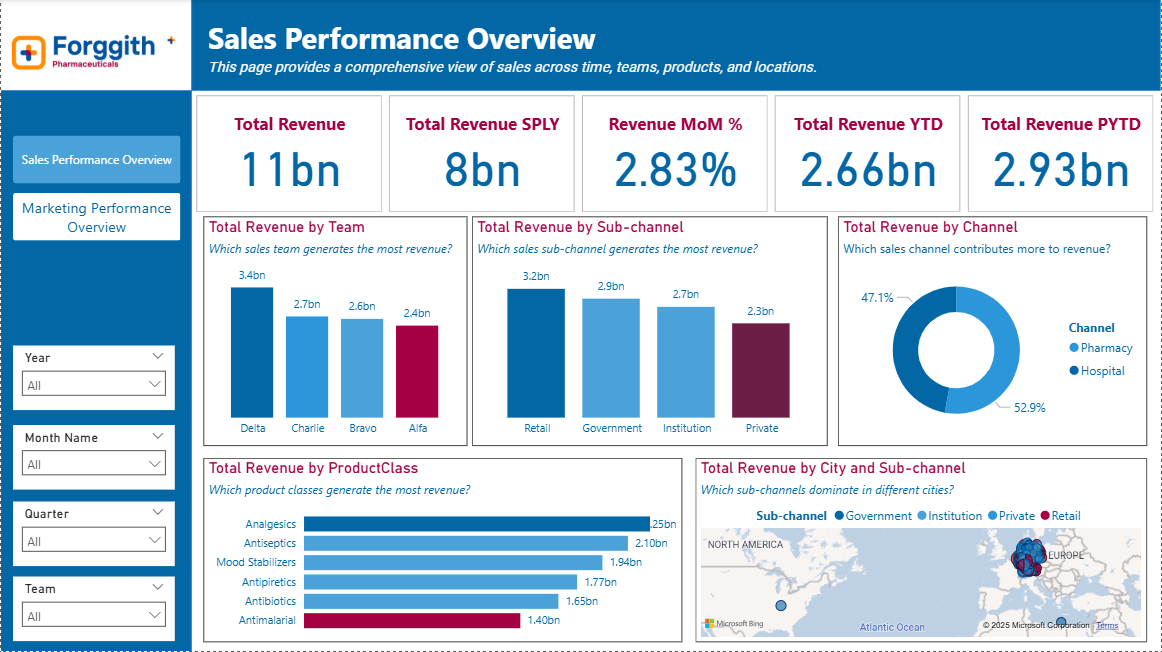

What the dashboard file says about the page in this screenshot:
{"tool":"powerbi","page":{"name":"Sales Performance Overview","canvas":[1280,720],"ordinal":0},"visuals":[{"type":"cardVisual","fields":{"Data":["_Measures.Total Revenue","_Measures.Total Revenue YTD","_Measures.Revenue MoM %","_Measures.Total Revenue PYTD","_Measures.Total Revenue SPLY"]},"box":[210.4,101,1070.1,139.1],"z":0},{"type":"lineChart","fields":{"Y":["_Measures.Total Revenue"],"Category":["Date.Month Name Short"]},"box":[223.6,240.2,336.3,253.4],"z":1000},{"type":"donutChart","fields":{"Category":["Channels.Channel"],"Y":["_Measures.Total Revenue"]},"box":[940,240,325,253.3],"z":2000},{"type":"image","box":[0,0,192.2,87.8],"z":3000},{"type":"shape","box":[210.4,0,1070.1,101],"z":4000},{"type":"map","fields":{"Y":["DimLocation.Latitude"],"X":["DimLocation.Longitude"],"Size":["_Measures.Total Revenue"],"Series":["Channels.Sub-channel"]},"box":[766.7,506.7,498.3,203.3],"z":5000},{"type":"barChart","fields":{"Y":["_Measures.Total Revenue"],"Category":["DimProducts.ProductClass"]},"box":[223.3,506.7,528.3,203.3],"z":6000},{"type":"shape","box":[0,101,210.4,619.5],"z":7000},{"type":"textbox","box":[223.6,14.9,442.3,59.6],"z":8000},{"type":"textbox","box":[223.6,59.6,810,28.2],"z":9000},{"type":"slicer","fields":{"Values":["Date.Month Name"]},"box":[13.3,470.4,178.9,71.2],"z":10000},{"type":"slicer","fields":{"Values":["Date.Quarter"]},"box":[13.3,554.9,178.9,71.2],"z":11000},{"type":"slicer","fields":{"Values":["DimEmployees.Team"]},"box":[13.3,637.7,178.9,71.2],"z":12000},{"type":"slicer","fields":{"Values":["Date.Year"]},"box":[13.3,382.6,178.9,71.2],"z":13000},{"type":"columnChart","fields":{"Category":["DimEmployees.Team"],"Y":["_Measures.Total Revenue"]},"box":[571.5,240.2,352.8,253.4],"z":14000},{"type":"pageNavigator","box":[13.3,150,178.3,166.7],"z":15000}]}

Visuals, with their boxes in screenshot pixels (x1, y1, x2, y2), scaled from the page's 1280x720 canvas onto the 1162x652 screenshot:
cardVisual - _Measures.Total Revenue x _Measures.Total Revenue YTD: {"left": 191, "top": 91, "right": 1161, "bottom": 217}
lineChart - _Measures.Total Revenue x Date.Month Name Short: {"left": 203, "top": 218, "right": 508, "bottom": 447}
donutChart - Channels.Channel x _Measures.Total Revenue: {"left": 853, "top": 217, "right": 1148, "bottom": 447}
image: {"left": 0, "top": 0, "right": 174, "bottom": 80}
shape: {"left": 191, "top": 0, "right": 1161, "bottom": 91}
map - DimLocation.Latitude x DimLocation.Longitude: {"left": 696, "top": 459, "right": 1148, "bottom": 643}
barChart - _Measures.Total Revenue x DimProducts.ProductClass: {"left": 203, "top": 459, "right": 682, "bottom": 643}
shape: {"left": 0, "top": 91, "right": 191, "bottom": 651}
textbox: {"left": 203, "top": 13, "right": 605, "bottom": 67}
textbox: {"left": 203, "top": 54, "right": 938, "bottom": 80}
slicer - Date.Month Name: {"left": 12, "top": 426, "right": 174, "bottom": 490}
slicer - Date.Quarter: {"left": 12, "top": 502, "right": 174, "bottom": 567}
slicer - DimEmployees.Team: {"left": 12, "top": 577, "right": 174, "bottom": 642}
slicer - Date.Year: {"left": 12, "top": 346, "right": 174, "bottom": 411}
columnChart - DimEmployees.Team x _Measures.Total Revenue: {"left": 519, "top": 218, "right": 839, "bottom": 447}
pageNavigator: {"left": 12, "top": 136, "right": 174, "bottom": 287}
